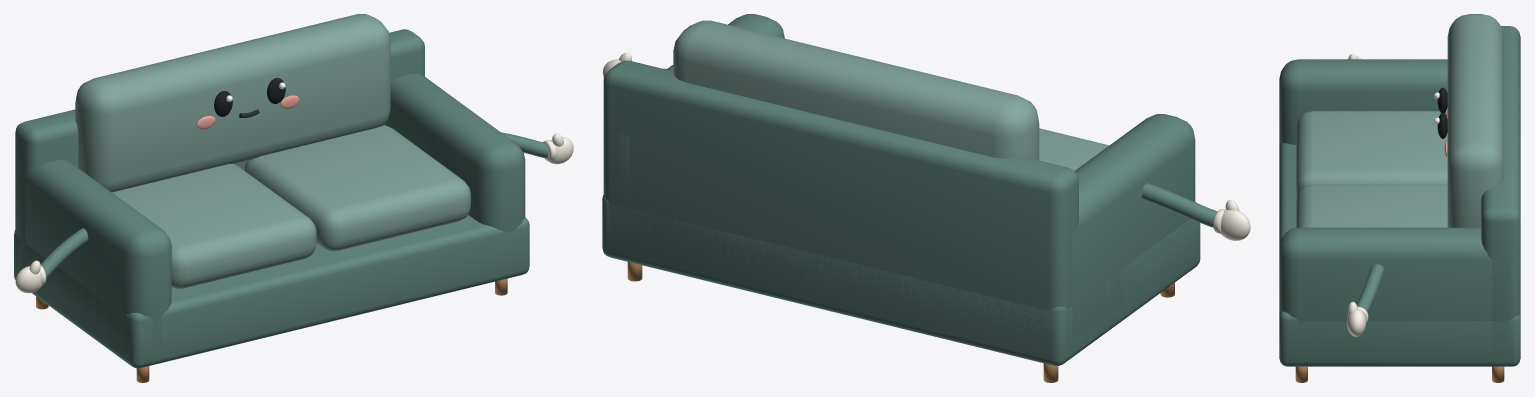
The model's file is sofa-2.glb.
The picture shows the model from 3 angles, left to right: view 1: azimuth 30°, elevation 25°; view 2: azimuth 150°, elevation 25°; view 3: azimuth 270°, elevation 25°; orthographic projection. The views are drawn at different scales.
Parts seen in each view (by area): view 1: Upholstery, Arm_L, Arm_R, Legs; view 2: Upholstery, Arm_L, Legs; view 3: Upholstery, Arm_R, Legs, Sphere.003, Sphere.
Boxes of the visible parts, x1=… form: Upholstery: x1=14, y1=14, x2=529, y2=368; Arm_L: x1=15, y1=228, x2=88, y2=293; Arm_R: x1=501, y1=132, x2=573, y2=164; Legs: x1=36, y1=278, x2=507, y2=382; Upholstery: x1=602, y1=14, x2=1200, y2=365; Arm_L: x1=1141, y1=183, x2=1250, y2=240; Legs: x1=627, y1=262, x2=1174, y2=382; Upholstery: x1=1279, y1=14, x2=1520, y2=366; Arm_R: x1=1346, y1=264, x2=1384, y2=336; Legs: x1=1295, y1=366, x2=1504, y2=382; Sphere.003: x1=1437, y1=112, x2=1447, y2=138; Sphere: x1=1437, y1=87, x2=1447, y2=112.
Size of the model in its own units: 2.24 by 0.85 by 0.8601.
